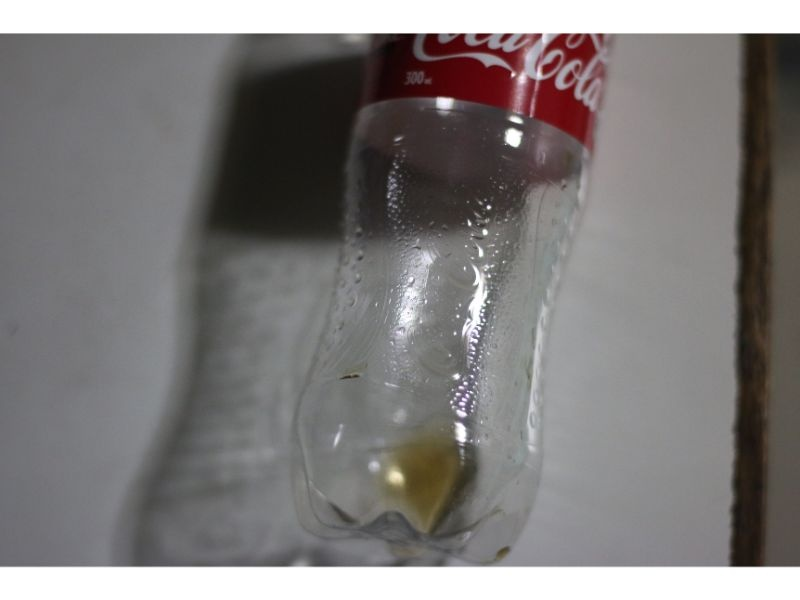PET #1: (293, 34, 613, 568)
